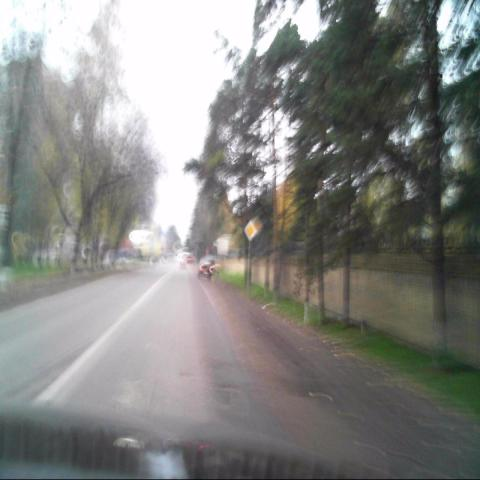2_1: (244, 220, 257, 242)
